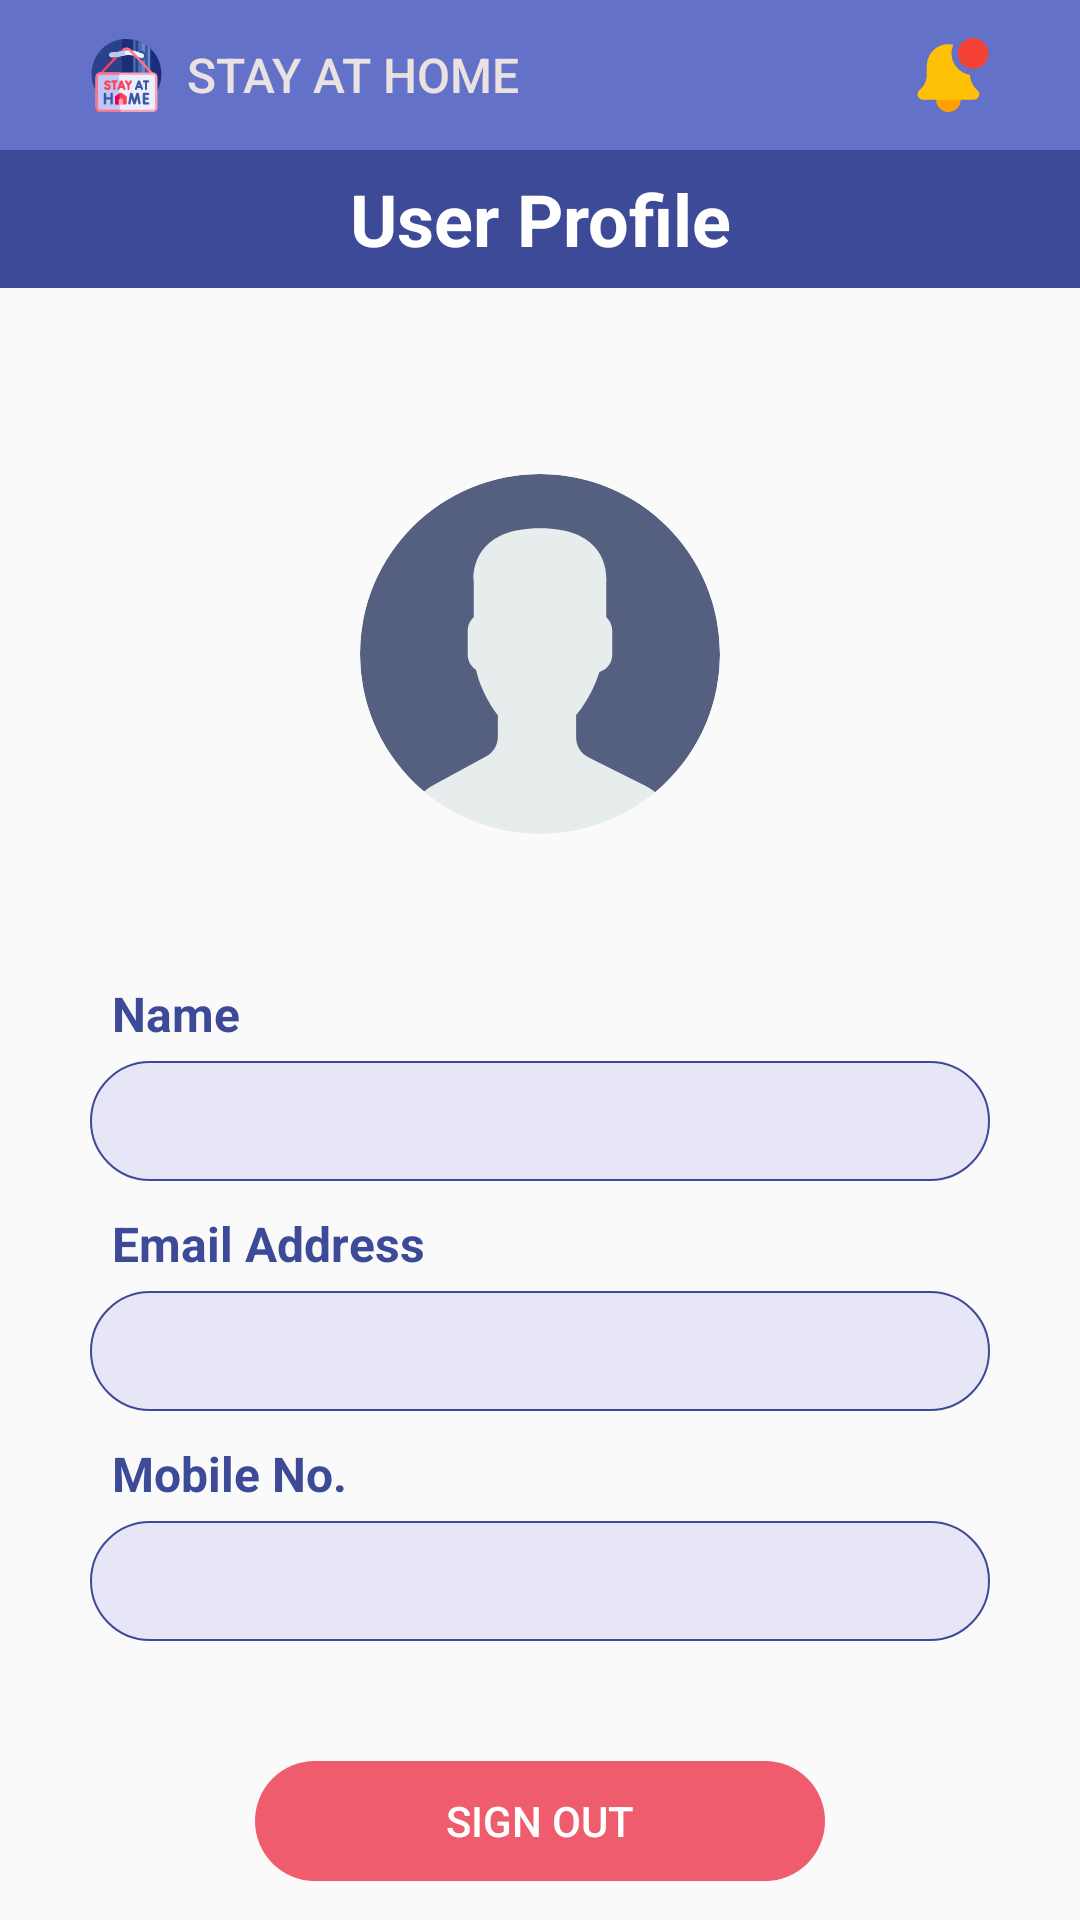

Screen size 1080×1920. Icon name, then its box in pixels as (x1, y1, x2, y2):
notification: (917, 38, 989, 112)
user: (360, 474, 720, 792)
